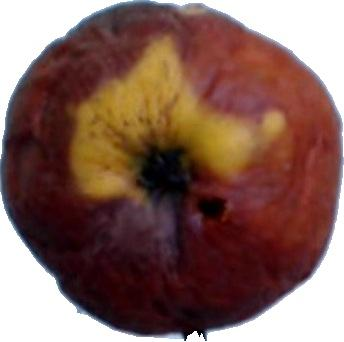Apple Overripe: (0, 4, 344, 342)
